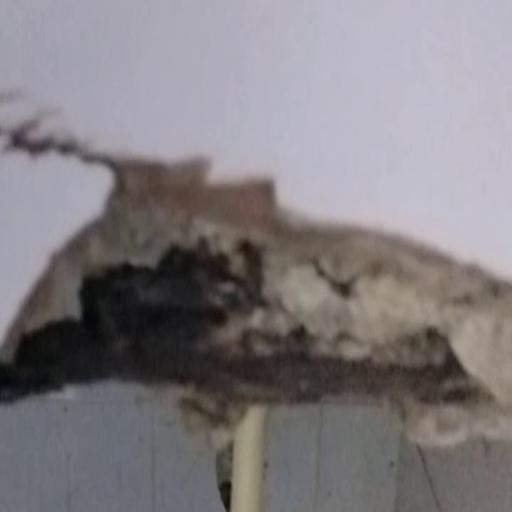spalling: (22, 125, 512, 440)
